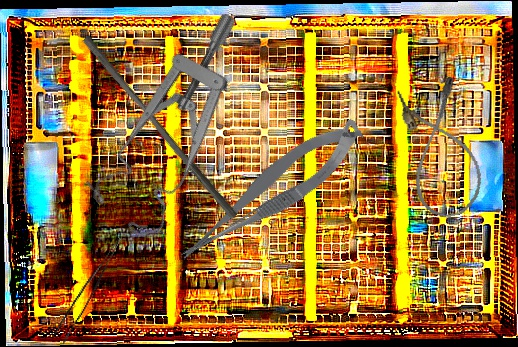Cannula: (393, 75, 489, 223)
Micro Scissor: (163, 112, 376, 269)
Pusher: (75, 34, 246, 220)
Speculum: (54, 9, 308, 250)
Tissue Forceps: (51, 230, 122, 347)
